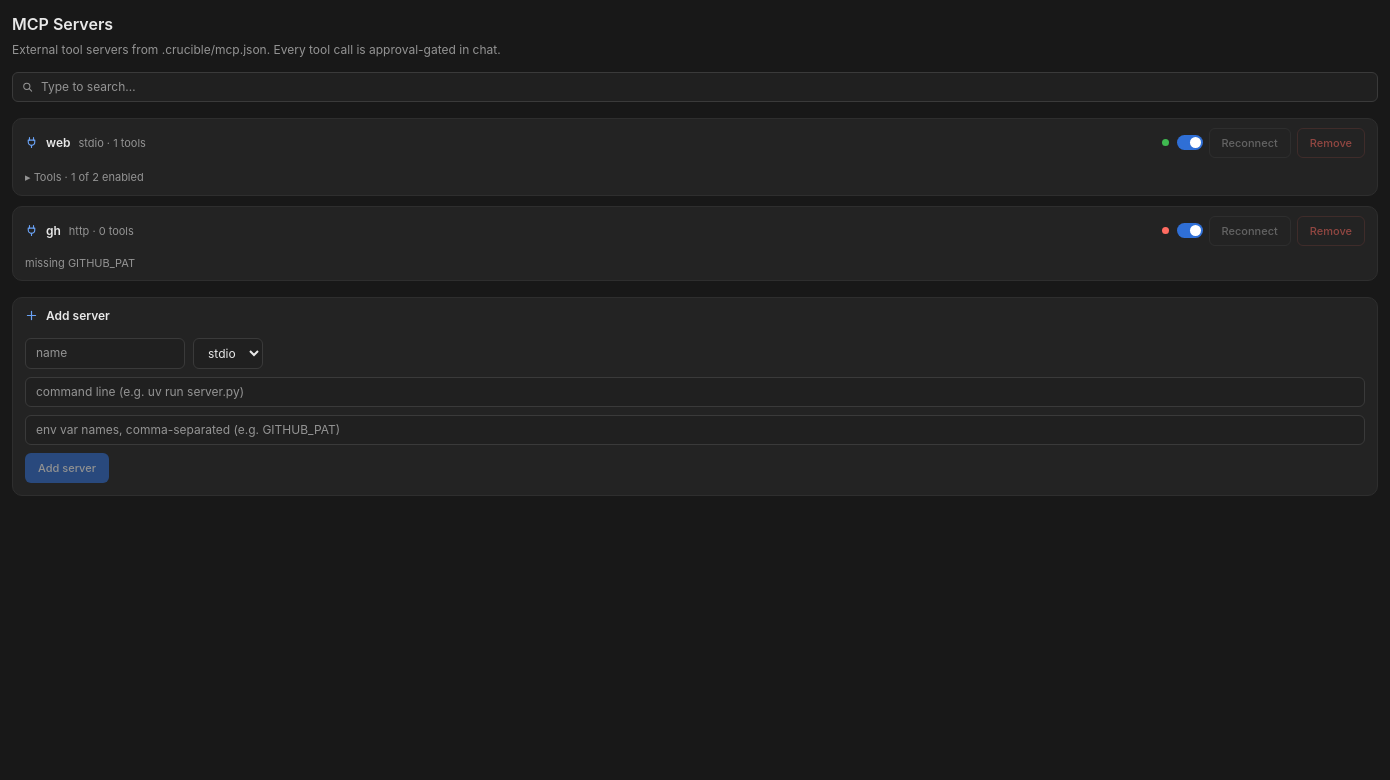
Test case: McpSection › disables tool checkboxes while busy
This screenshot has width=1390, height=780.
Step 1. Click the button with aria-label "Tools for web: 1 of 2 enabled" → [84, 177], box [25,169,144,186]
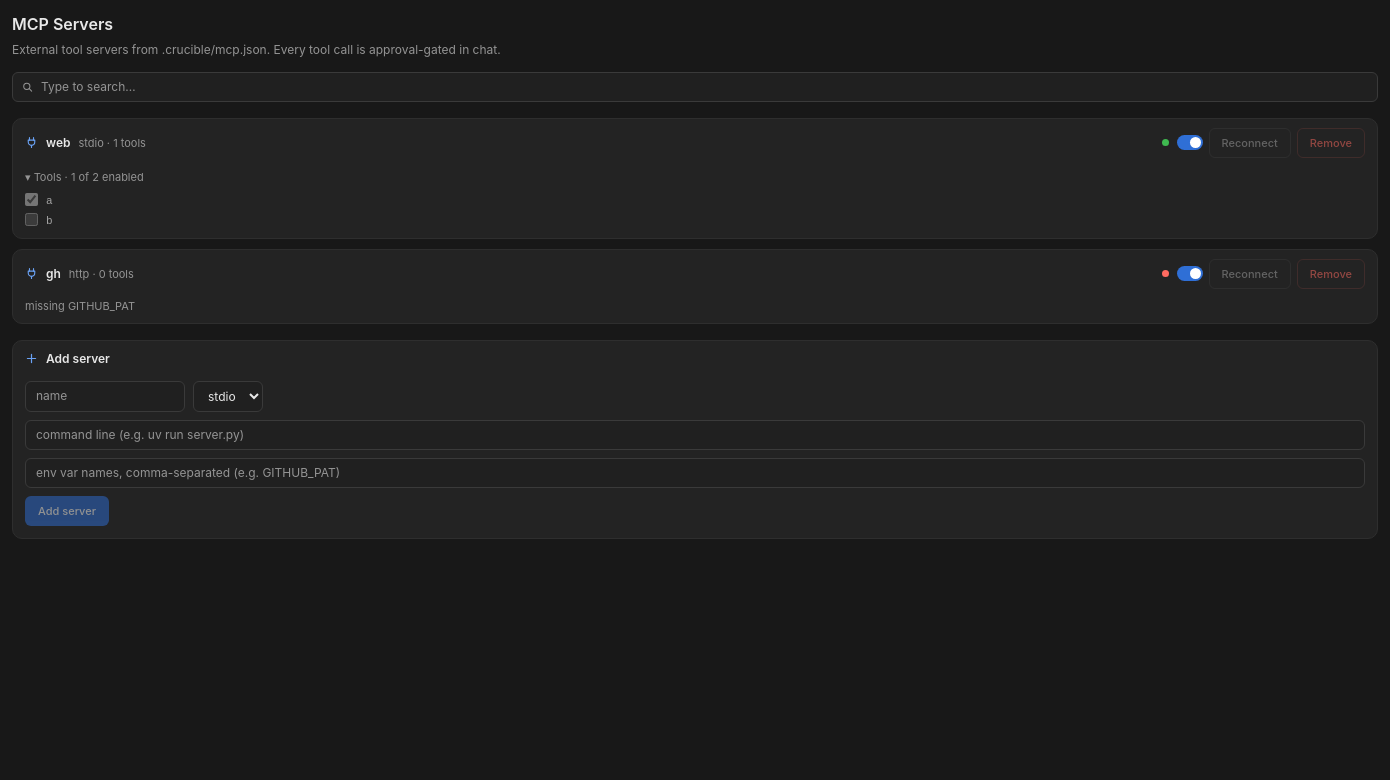
Now the checkbox labelled "a" is disabled, box [25,192,38,206]
